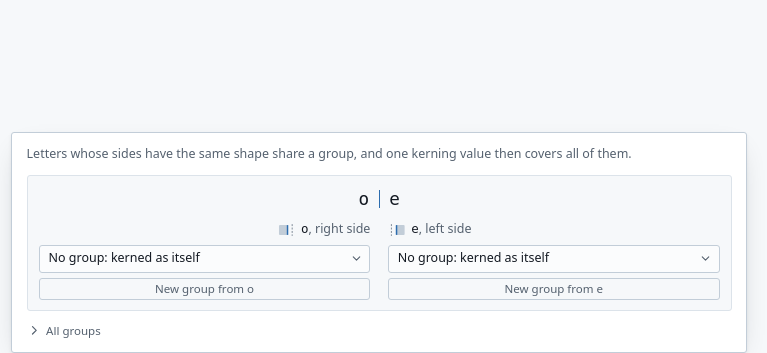
Test case: the panel › has a column for each side of the gap
(page scrolled)
Click the button "All groups" at (64, 330), box [27,322,101,339]
(page scrolled)
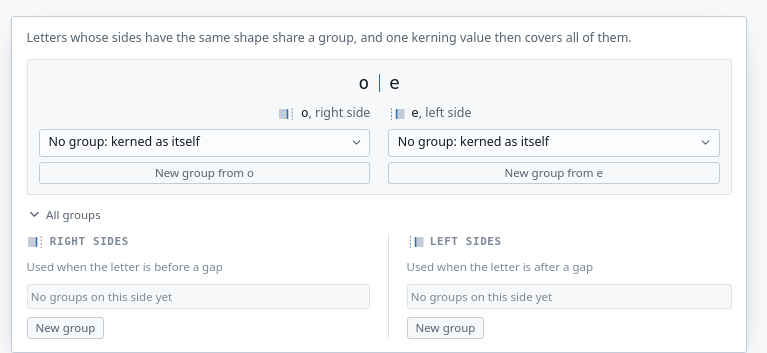
Result: the element "Right sides" is shown at [27,234,370,339]
Result: the element "Left sides" is shown at [388,234,732,339]
Result: the list item "No groups on this side yet" below "Used when the letter is before a gap" is shown at [31,289,172,304]
